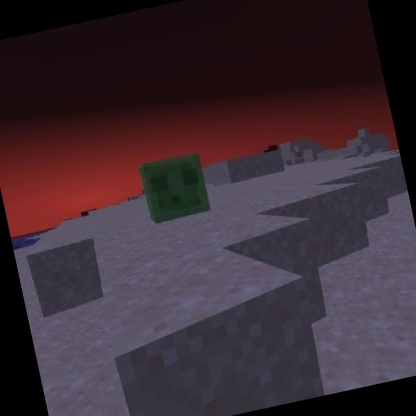slime: (134, 147, 216, 227)
